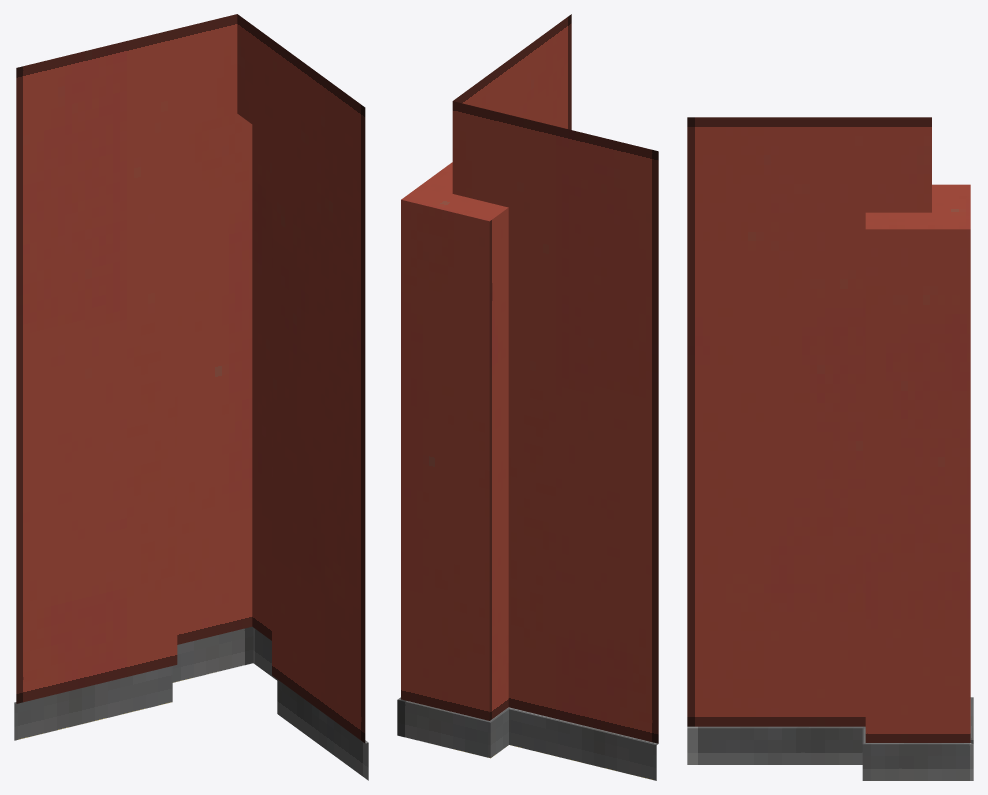
File: mesh_wall_01.FBX
3 renders of one model, left to right at view 1: azimuth 30°, elevation 25°; view 2: azimuth 150°, elevation 25°; view 3: azimuth 270°, elevation 25°, orthographic. The views are drawn at different scales.
Parts seen in each view (by area): view 1: Object137; view 2: Object137; view 3: Object137.
Part boxes in pixels (x1=…): Object137: x1=14, y1=14, x2=368, y2=780; Object137: x1=397, y1=14, x2=658, y2=780; Object137: x1=687, y1=117, x2=973, y2=780.
Bounding box in the file's own units: 1.77 × 4.4 × 1.77.
